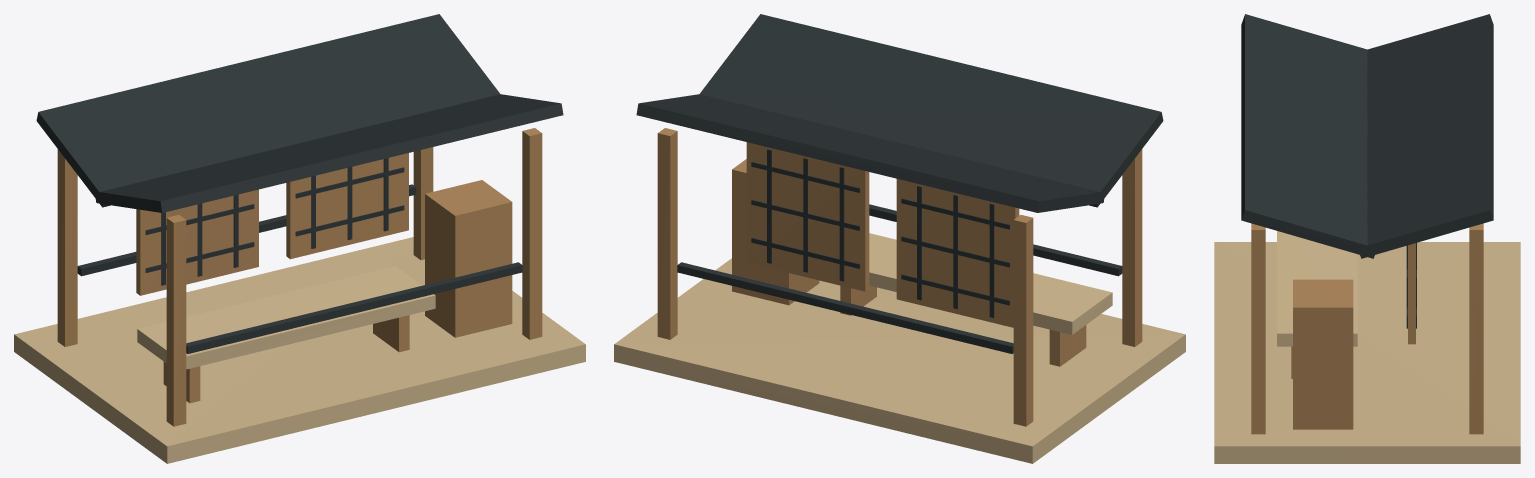
The model's file is Net-Station.glb.
The picture shows the model from 3 angles, left to right: view 1: azimuth 30°, elevation 25°; view 2: azimuth 150°, elevation 25°; view 3: azimuth 270°, elevation 25°; orthographic projection.
Parts seen in each view (by area): view 1: net-station-static-net-station-charcoal-roof-rails, net-station-static-net-station-pale-stone-slab, net-station-static-net-station-muted-teal-lattice-cabinet, net-station-static-net-station-warm-timber-frame, net-station-static-net-station-cream-work-surface; view 2: net-station-static-net-station-charcoal-roof-rails, net-station-static-net-station-pale-stone-slab, net-station-static-net-station-muted-teal-lattice-cabinet, net-station-static-net-station-warm-timber-frame, net-station-static-net-station-cream-work-surface; view 3: net-station-static-net-station-charcoal-roof-rails, net-station-static-net-station-pale-stone-slab, net-station-static-net-station-muted-teal-lattice-cabinet, net-station-static-net-station-warm-timber-frame, net-station-static-net-station-cream-work-surface.
Part boxes in pixels (x1,y1,x2,y2): net-station-static-net-station-charcoal-roof-rails: [36, 14, 563, 353]; net-station-static-net-station-pale-stone-slab: [14, 237, 585, 463]; net-station-static-net-station-muted-teal-lattice-cabinet: [136, 153, 512, 337]; net-station-static-net-station-warm-timber-frame: [57, 128, 542, 426]; net-station-static-net-station-cream-work-surface: [137, 266, 435, 369]; net-station-static-net-station-charcoal-roof-rails: [636, 14, 1163, 353]; net-station-static-net-station-pale-stone-slab: [614, 258, 1185, 463]; net-station-static-net-station-muted-teal-lattice-cabinet: [732, 142, 1019, 327]; net-station-static-net-station-warm-timber-frame: [657, 128, 1142, 426]; net-station-static-net-station-cream-work-surface: [869, 233, 1112, 334]; net-station-static-net-station-charcoal-roof-rails: [1241, 14, 1493, 328]; net-station-static-net-station-pale-stone-slab: [1214, 242, 1520, 463]; net-station-static-net-station-muted-teal-lattice-cabinet: [1293, 243, 1415, 429]; net-station-static-net-station-warm-timber-frame: [1251, 223, 1483, 434]; net-station-static-net-station-cream-work-surface: [1277, 231, 1357, 346].
Bounding box in the file's own units: 6 × 3.41 × 3.8.
